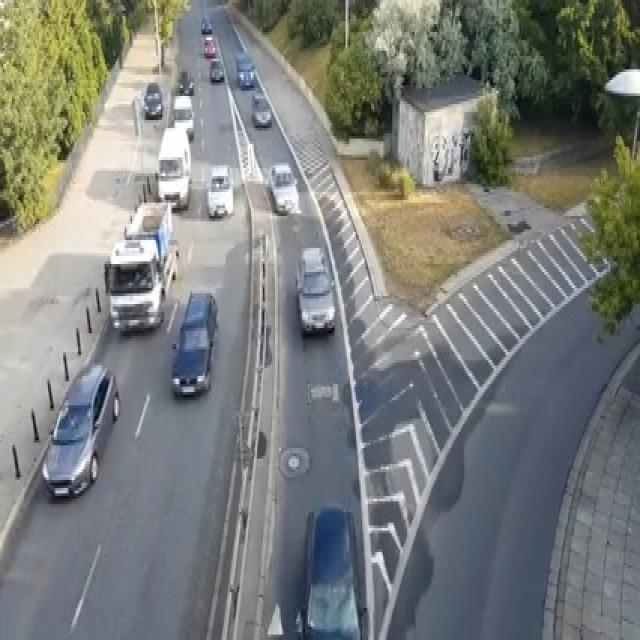car: (41, 360, 120, 499), (295, 502, 362, 638), (104, 238, 164, 334), (171, 290, 218, 394), (294, 245, 335, 336), (123, 200, 173, 269), (267, 160, 299, 213), (206, 162, 233, 218), (168, 93, 194, 139), (251, 91, 272, 125), (143, 80, 162, 117), (236, 56, 255, 88), (177, 70, 194, 94), (209, 58, 224, 82), (203, 35, 215, 56), (200, 16, 212, 32)
